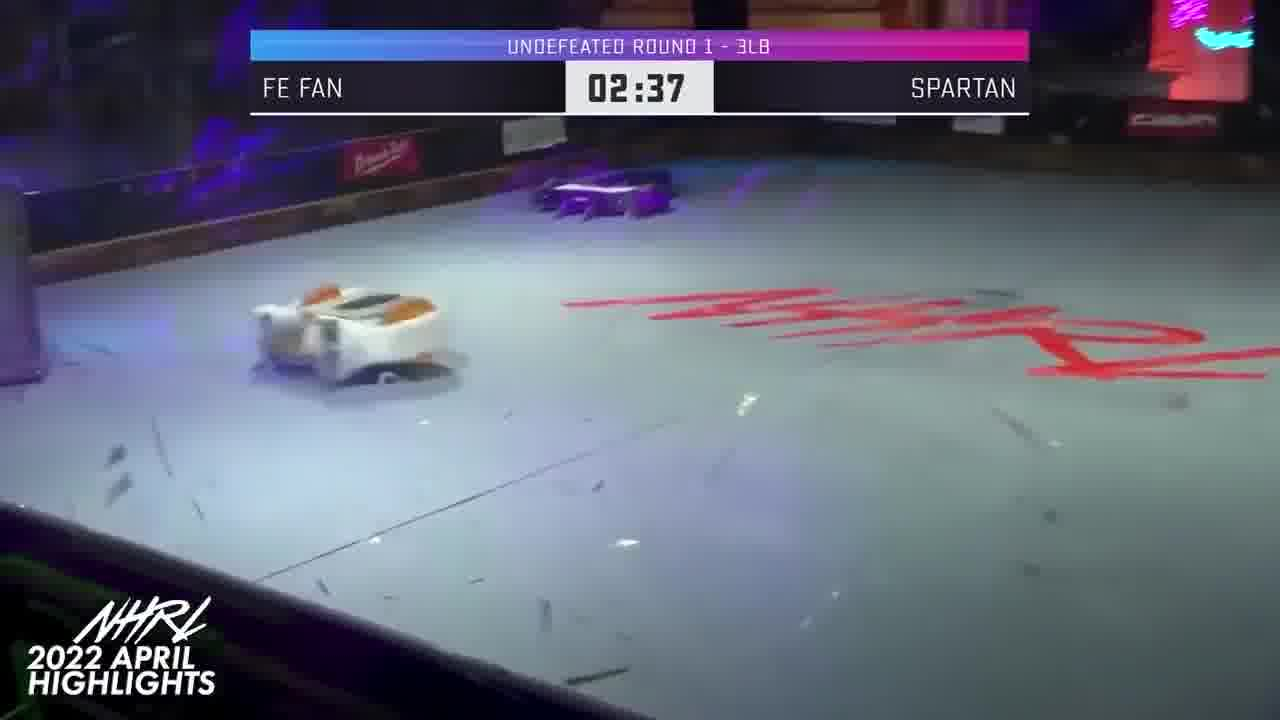combatbot: (253, 284, 444, 390), (534, 170, 683, 225)
housebot: (0, 184, 44, 392)
